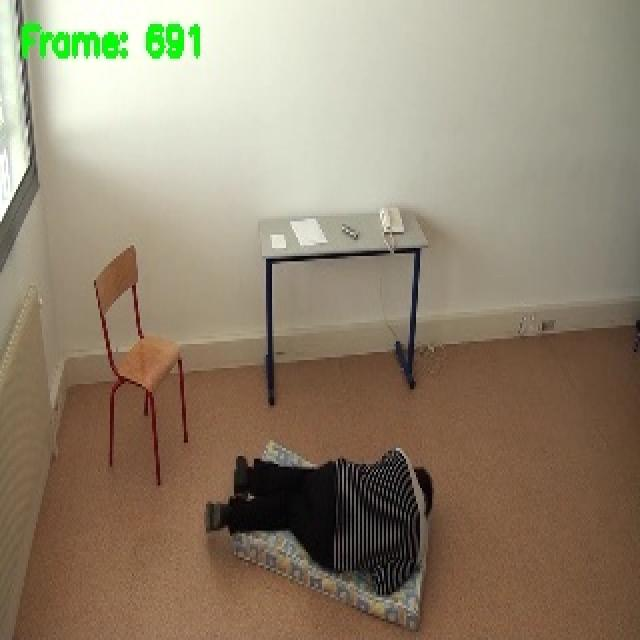Fall-Detected: (197, 437, 440, 597)
